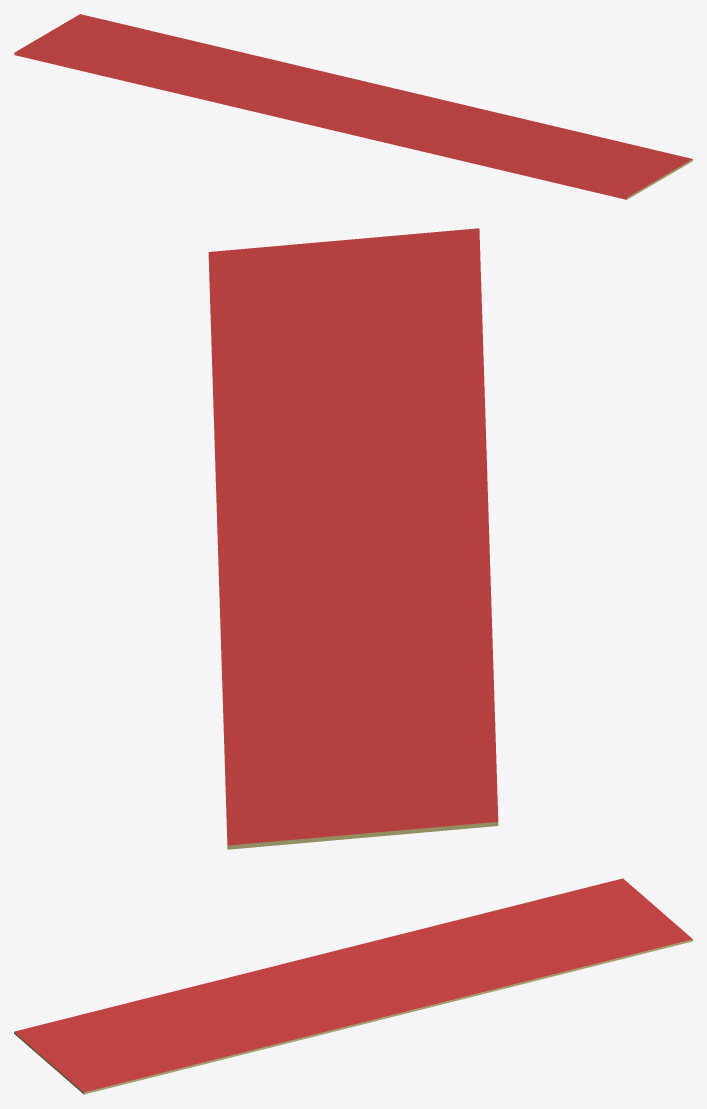
3 views of the same model, one above another, from view 1: azimuth 30°, elevation 25°; view 2: azimuth 150°, elevation 25°; view 3: azimuth 270°, elevation 25° (orthographic). The views are drawn at different scales.
Size of the model in its own units: 20.57 by 29.09 by 0.631.
